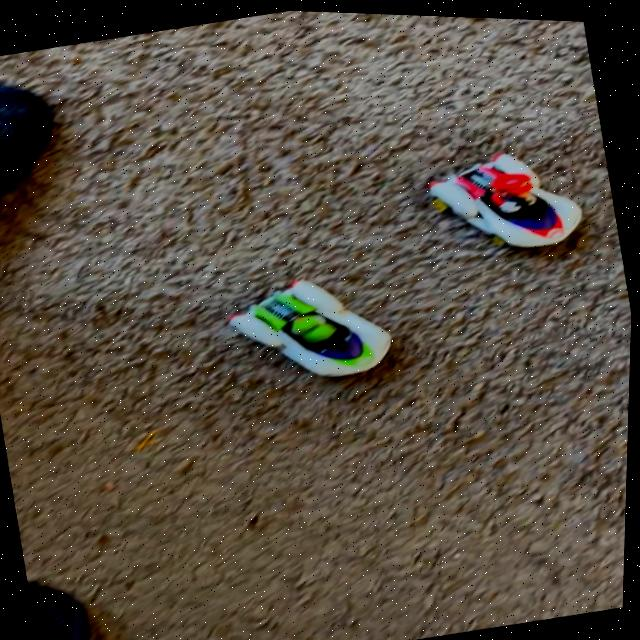mario: (412, 119, 612, 278)
yoshi: (215, 249, 419, 406)
